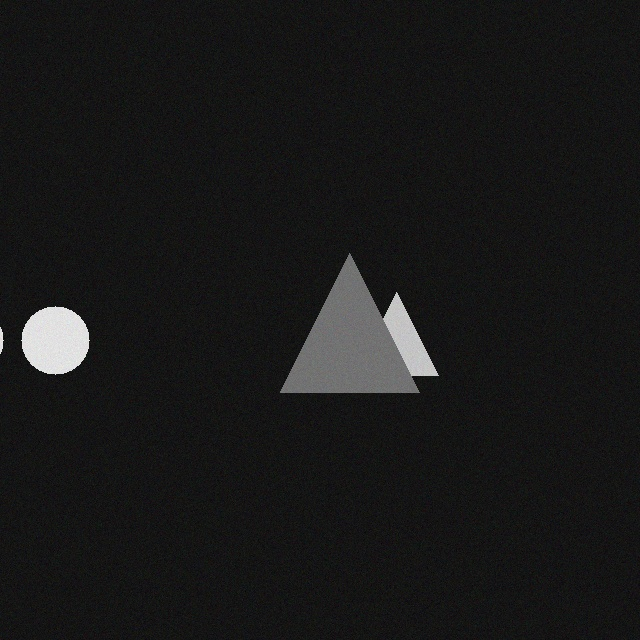circle: (9, 305, 77, 373)
triangle: (268, 252, 407, 391), (343, 291, 426, 374)
